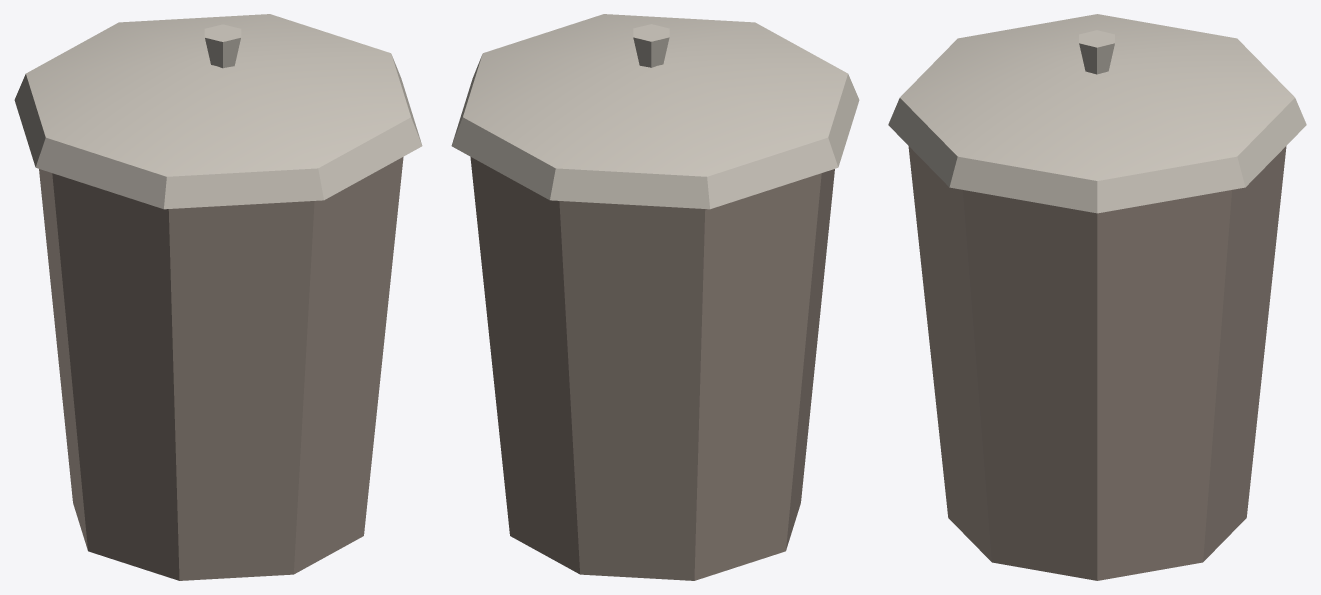
File: bin_brown.fbx
3 renders of one model, left to right at view 1: azimuth 30°, elevation 25°; view 2: azimuth 150°, elevation 25°; view 3: azimuth 270°, elevation 25°, orthographic.
Visible parts, largest first — view 1: binBase1, binLid1, binHandle1; view 2: binBase1, binLid1, binHandle1; view 3: binBase1, binLid1, binHandle1.
Boxes of the visible parts, <box> form: binBase1: <box>39,157,403,580</box>; binLid1: <box>14,14,422,209</box>; binHandle1: <box>204,24,241,68</box>; binBase1: <box>470,157,834,580</box>; binLid1: <box>451,14,859,209</box>; binHandle1: <box>633,24,669,67</box>; binBase1: <box>908,146,1286,580</box>; binLid1: <box>888,14,1306,213</box>; binHandle1: <box>1079,30,1114,74</box>.
Size of the model in its own units: 0.4548 by 0.5766 by 0.4548.
